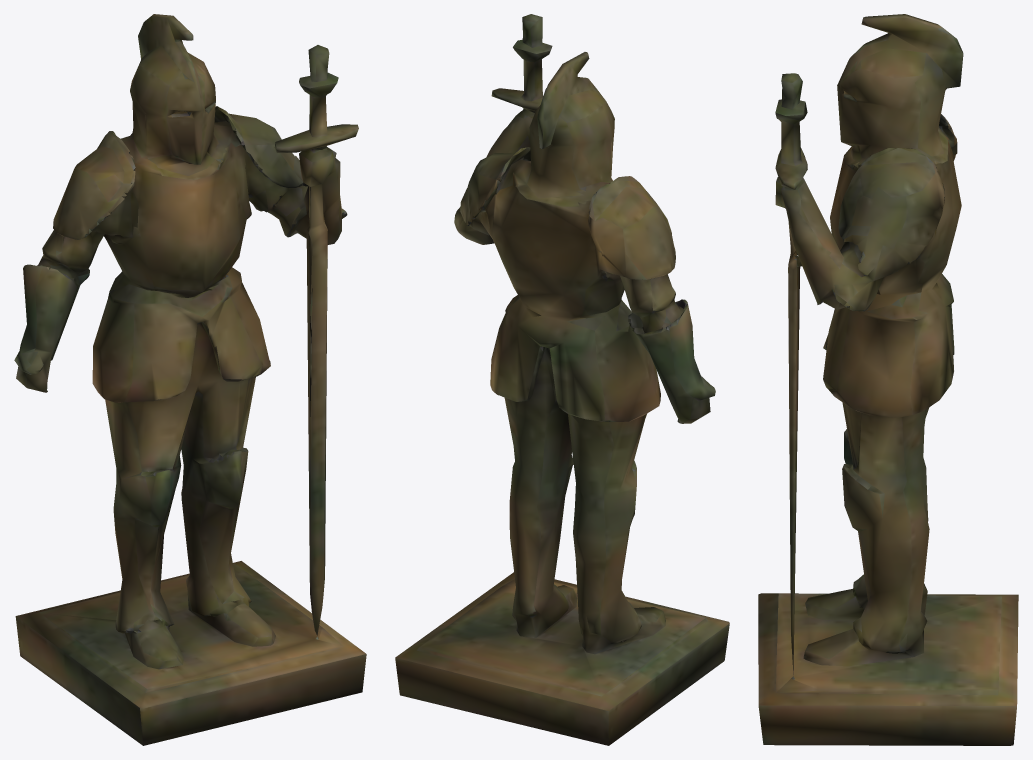
Rendered from ornate-bronze-suit-of-armour-v001.glb.
3 views of the same model, side by side, from view 1: azimuth 30°, elevation 25°; view 2: azimuth 150°, elevation 25°; view 3: azimuth 270°, elevation 25° (orthographic). The views are drawn at different scales.
Visible parts, largest first — view 1: ornate-bronze-suit-of-armour; view 2: ornate-bronze-suit-of-armour; view 3: ornate-bronze-suit-of-armour.
Part boxes in pixels (<box>): ornate-bronze-suit-of-armour: <box>14,14,366,745</box>; ornate-bronze-suit-of-armour: <box>395,14,729,745</box>; ornate-bronze-suit-of-armour: <box>758,14,1018,745</box>.
Bounding box in the file's own units: 0.87 × 1.83 × 0.645.
Materials: 1 (1 with a texture image).
